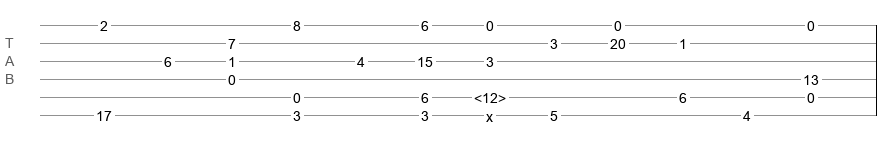0: (228, 72, 236, 82), (293, 90, 301, 100), (486, 18, 494, 28), (614, 18, 622, 28), (807, 18, 815, 28), (807, 90, 815, 100)
1: (228, 54, 236, 64), (679, 36, 687, 46)
13: (803, 72, 819, 82)
15: (417, 54, 433, 64)
17: (96, 108, 112, 118)
2: (100, 18, 108, 28)
20: (610, 36, 626, 46)
3: (293, 108, 301, 118), (421, 108, 429, 118), (486, 54, 494, 64), (550, 36, 558, 46)
4: (357, 54, 365, 64), (743, 108, 751, 118)
5: (550, 108, 558, 118)
6: (164, 54, 172, 64), (421, 18, 429, 28), (421, 90, 429, 100), (679, 90, 687, 100)
7: (228, 36, 236, 46)
8: (293, 18, 301, 28)
harmonic: (474, 90, 506, 100)
x: (486, 109, 493, 117)
